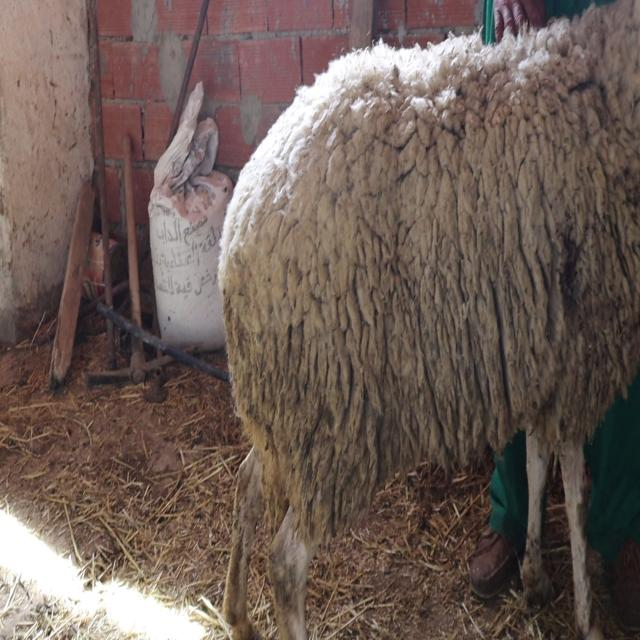Score_4: (219, 0, 640, 639)
